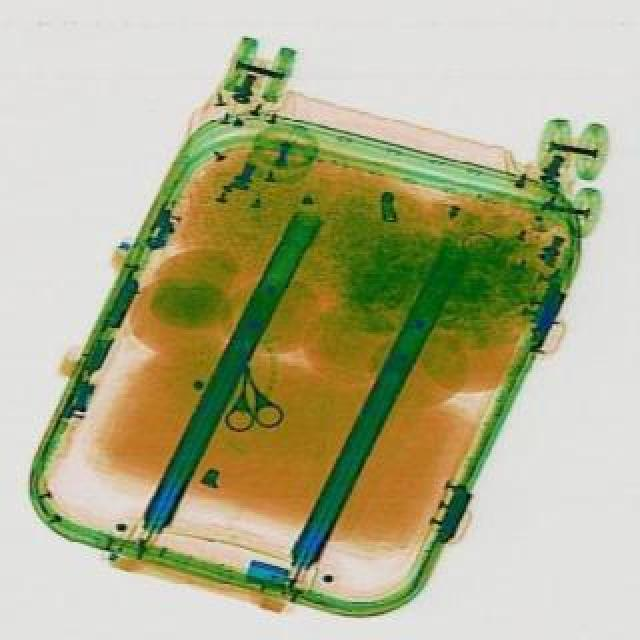pliers: (216, 360, 282, 430)
